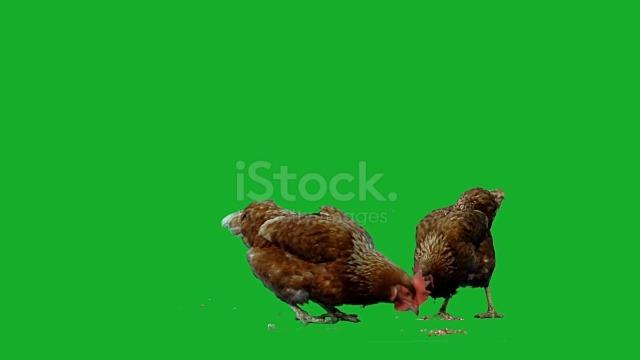Normal: (224, 194, 429, 328)
